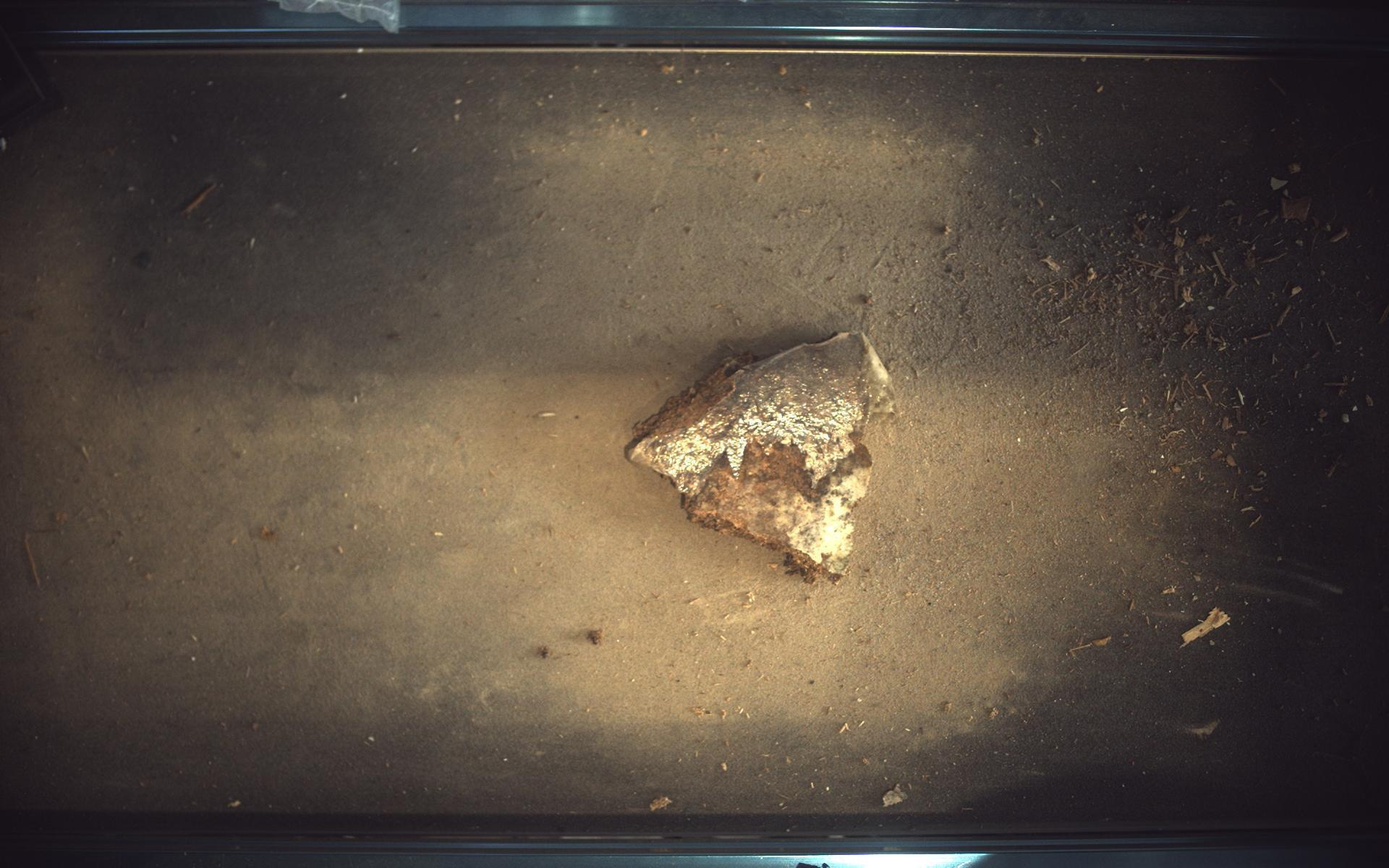wood: (626, 332, 896, 582)
